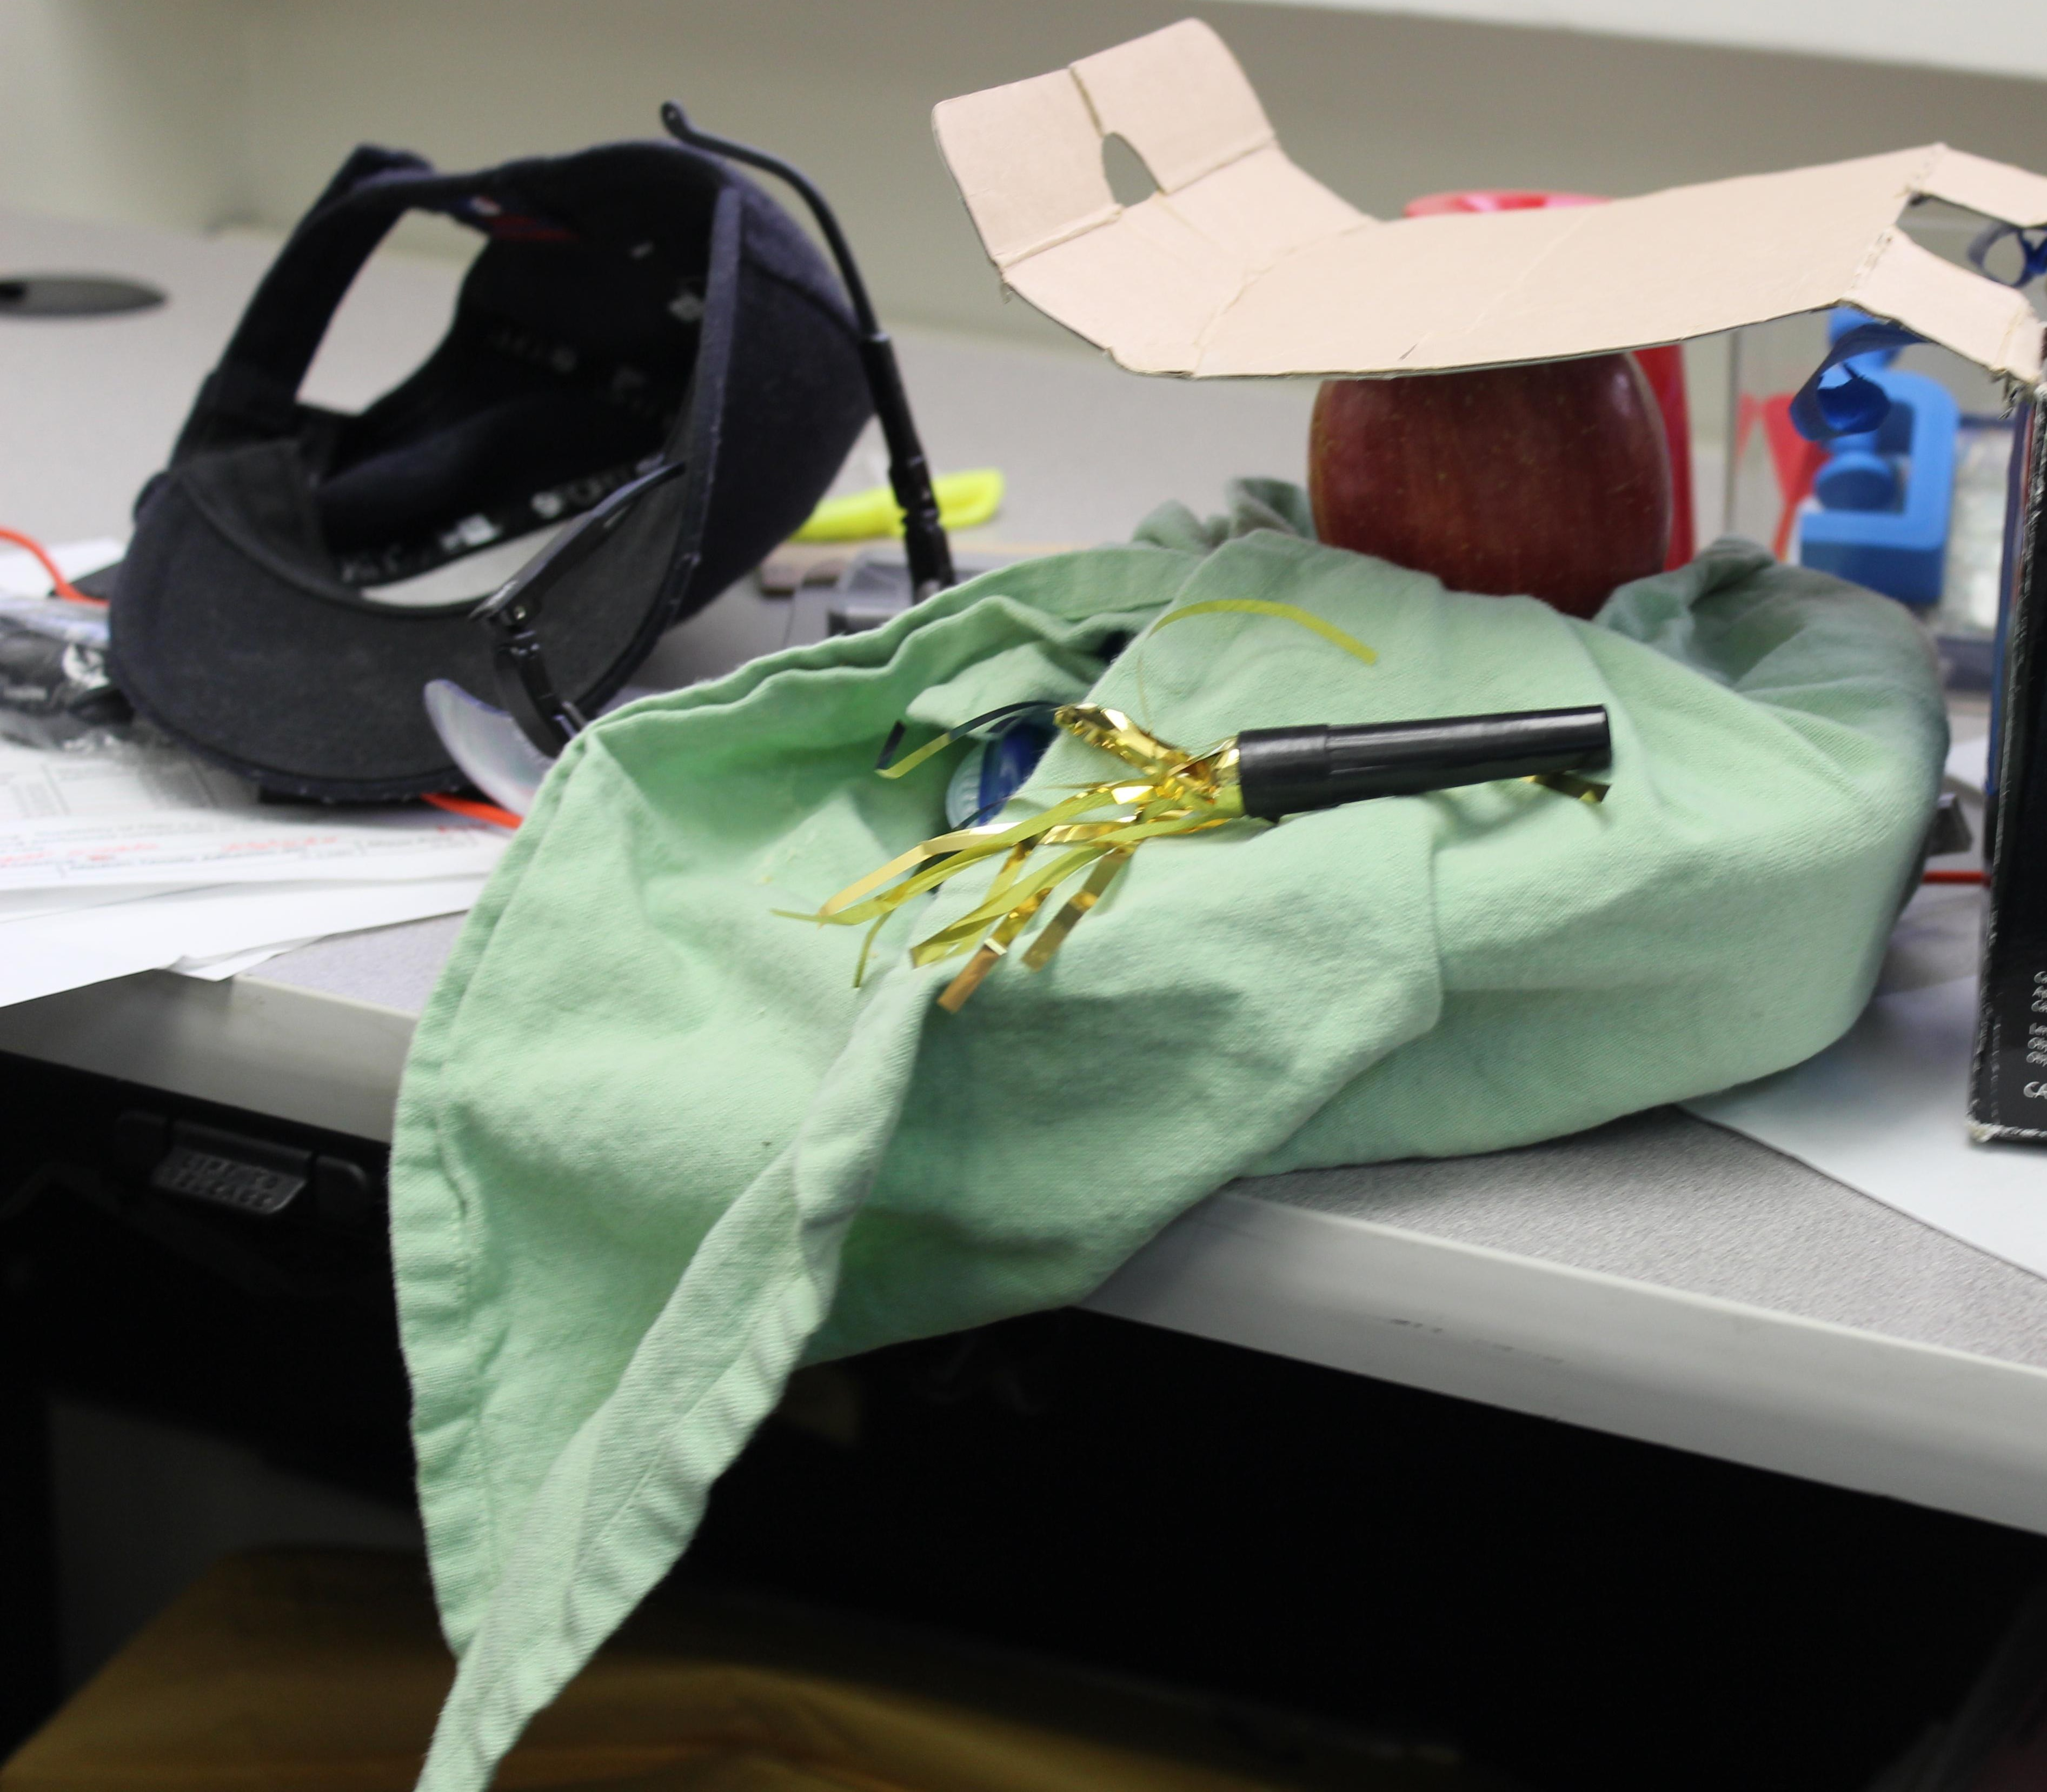partyFavor: (747, 536, 1661, 1075)
